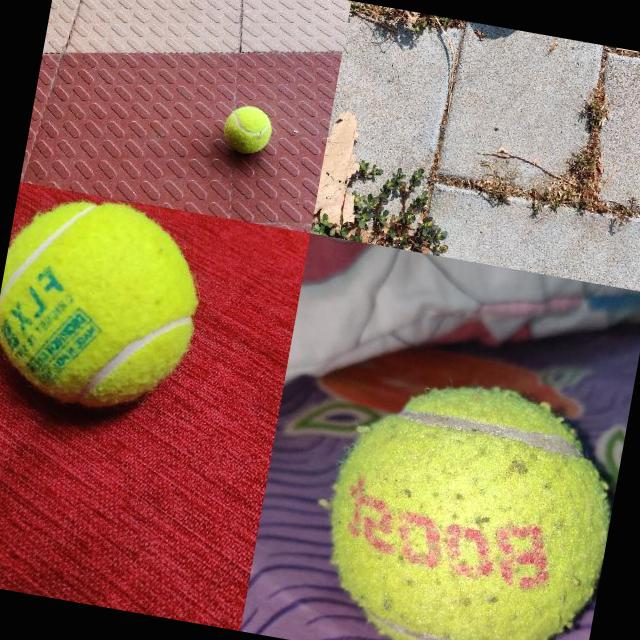Tennis Ball: (305, 356, 630, 640), (0, 184, 213, 423), (220, 103, 274, 156)
